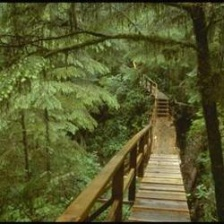neutral: (1, 3, 221, 222)
